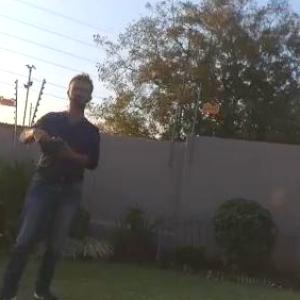follow: (0, 57, 102, 299)
